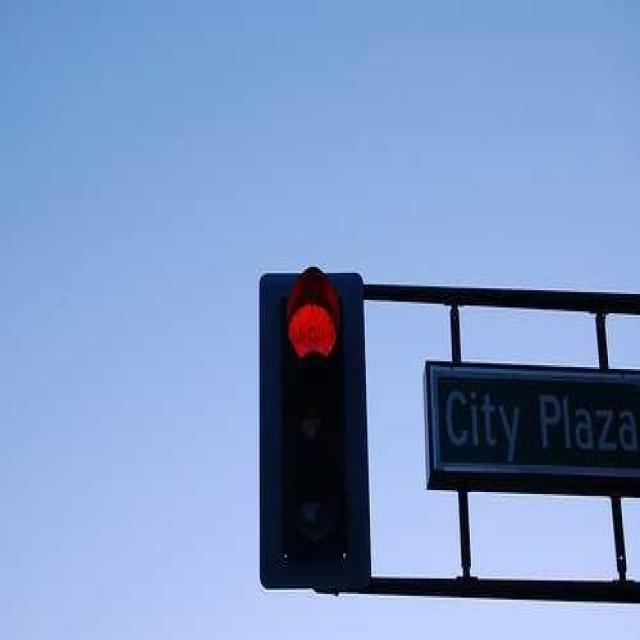Traffic Light -Red-: (253, 260, 370, 600)
